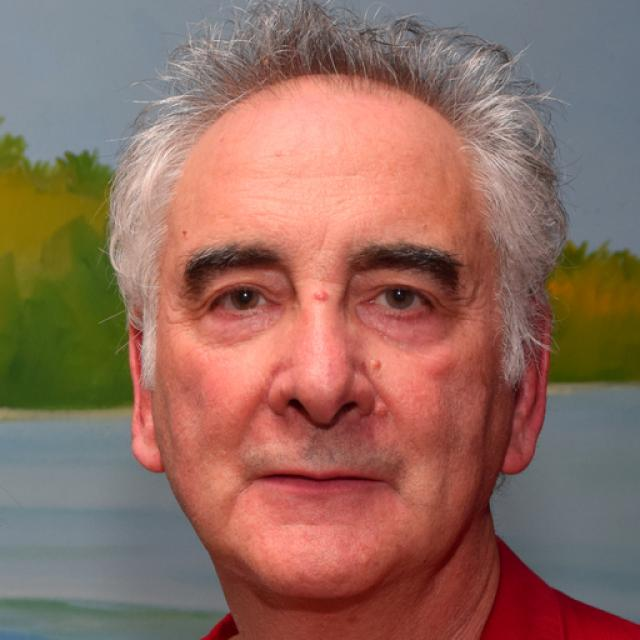Acne: (304, 284, 335, 308), (371, 395, 395, 421), (365, 355, 391, 374)
